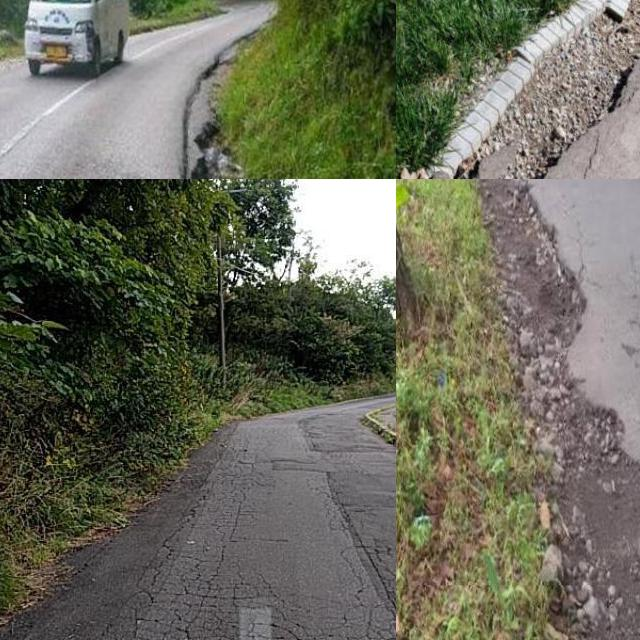Pinggir: (473, 179, 640, 640), (396, 0, 640, 179), (167, 48, 261, 179)
Retak Buaya: (124, 549, 292, 640)
